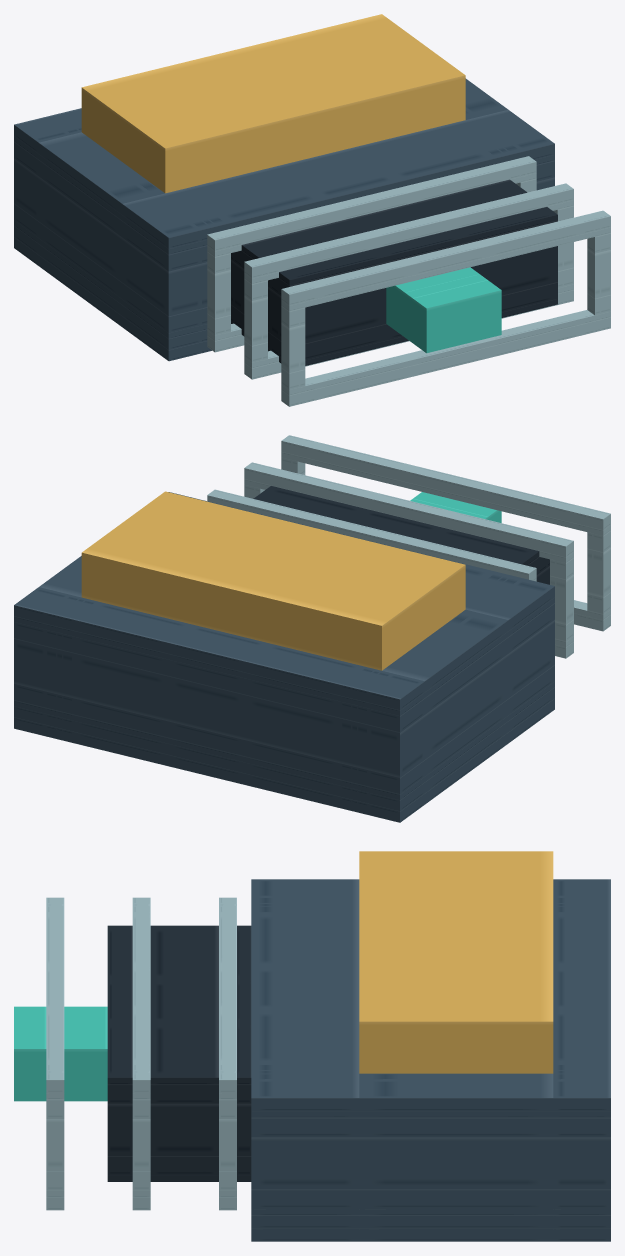
The model's file is sc_mount_emp_generator.obj.
3 renders of one model, top to bottom at view 1: azimuth 30°, elevation 25°; view 2: azimuth 150°, elevation 25°; view 3: azimuth 270°, elevation 25°, orthographic. The views are drawn at different scales.
Bounding box in the file's own units: 7.2 × 3 × 8.3.
1 material, 1 textured.
